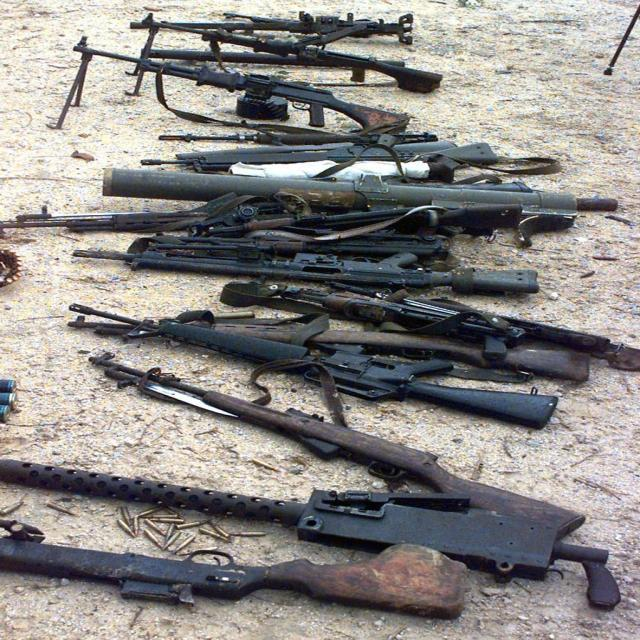weapon: (0, 454, 631, 614), (85, 347, 590, 545), (0, 542, 470, 616)
